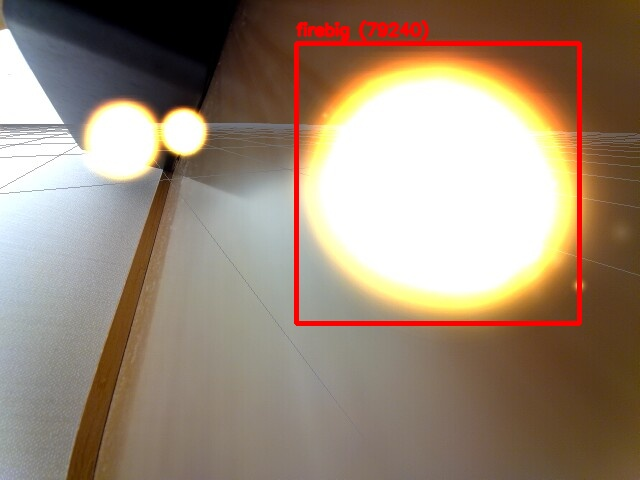firebig: (296, 43, 579, 323)
